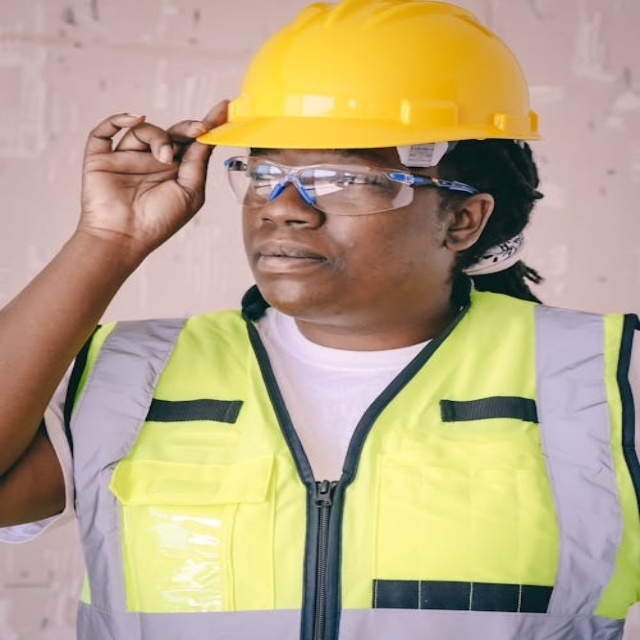Gafas: (223, 149, 483, 217)
Sin_guantes: (69, 94, 234, 243)
Sin_mascara: (247, 235, 365, 304)
